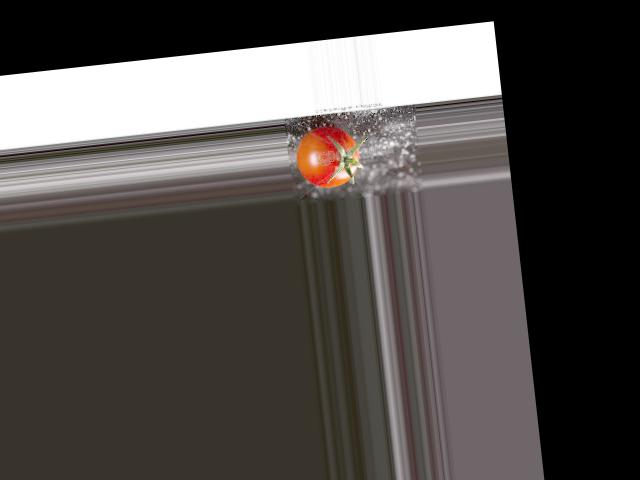tomato: (293, 123, 362, 190)
